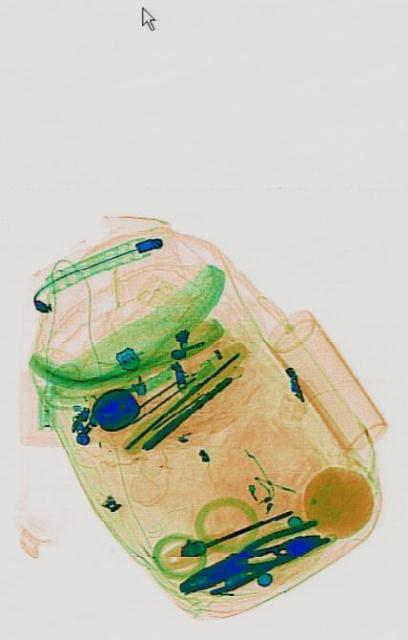Pliers: (173, 513, 320, 607), (203, 520, 320, 600)
